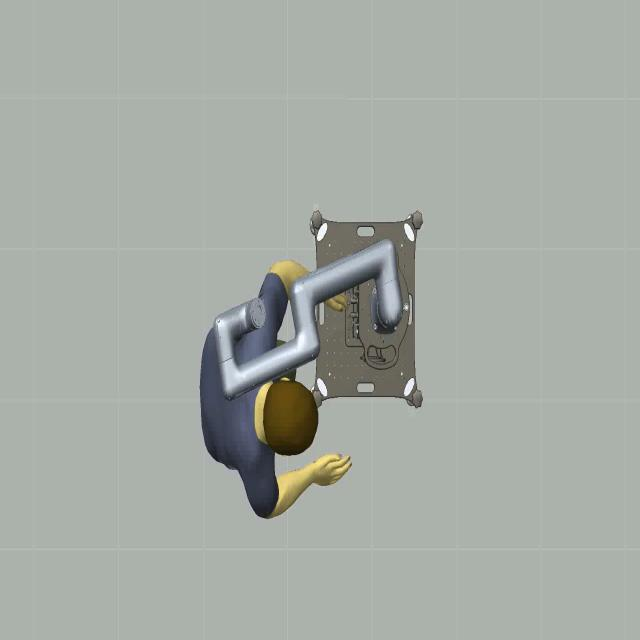human: (194, 245, 354, 540)
robot: (208, 218, 410, 404)
